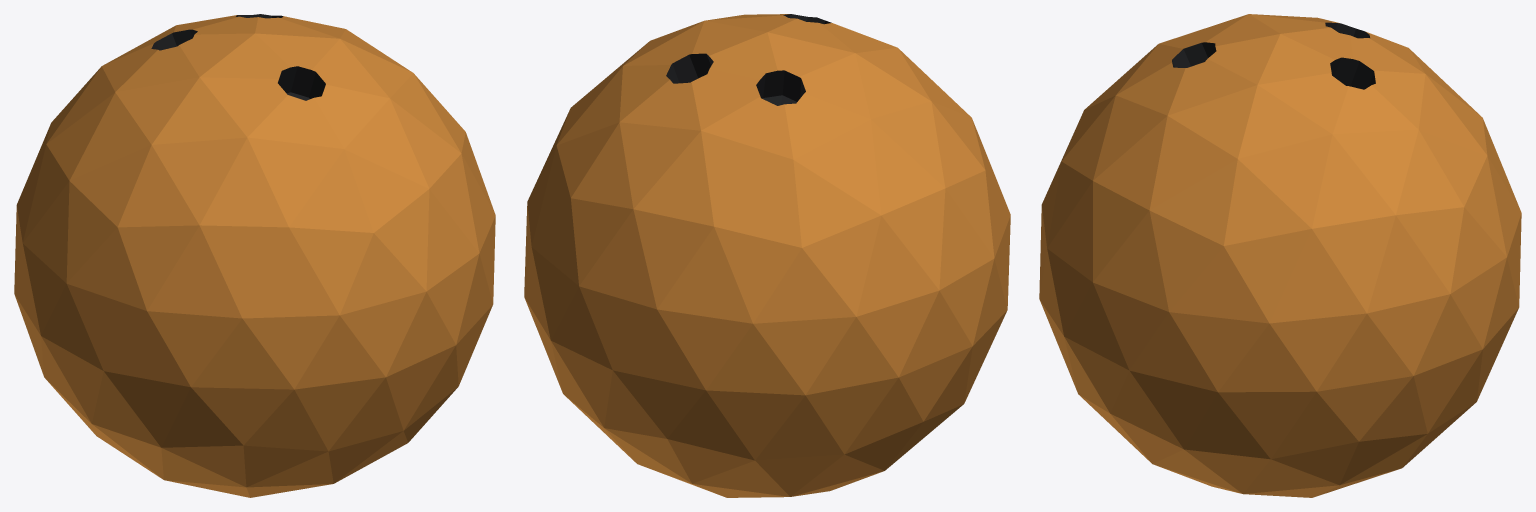
Rendered from SM_Prop_Bowling_Ball_01.fbx.
3 renders of one model, left to right at view 1: azimuth 30°, elevation 25°; view 2: azimuth 150°, elevation 25°; view 3: azimuth 270°, elevation 25°, orthographic.
Parts seen in each view (by area): view 1: SM_Prop_Bowling_Ball_01; view 2: SM_Prop_Bowling_Ball_01; view 3: SM_Prop_Bowling_Ball_01.
Boxes of the visible parts, x1,y1,x2,y2 form: SM_Prop_Bowling_Ball_01: (14,14,495,497); SM_Prop_Bowling_Ball_01: (524,14,1010,497); SM_Prop_Bowling_Ball_01: (1039,14,1521,497).
Bounding box in the file's own units: 36.66 × 37.16 × 36.57.
